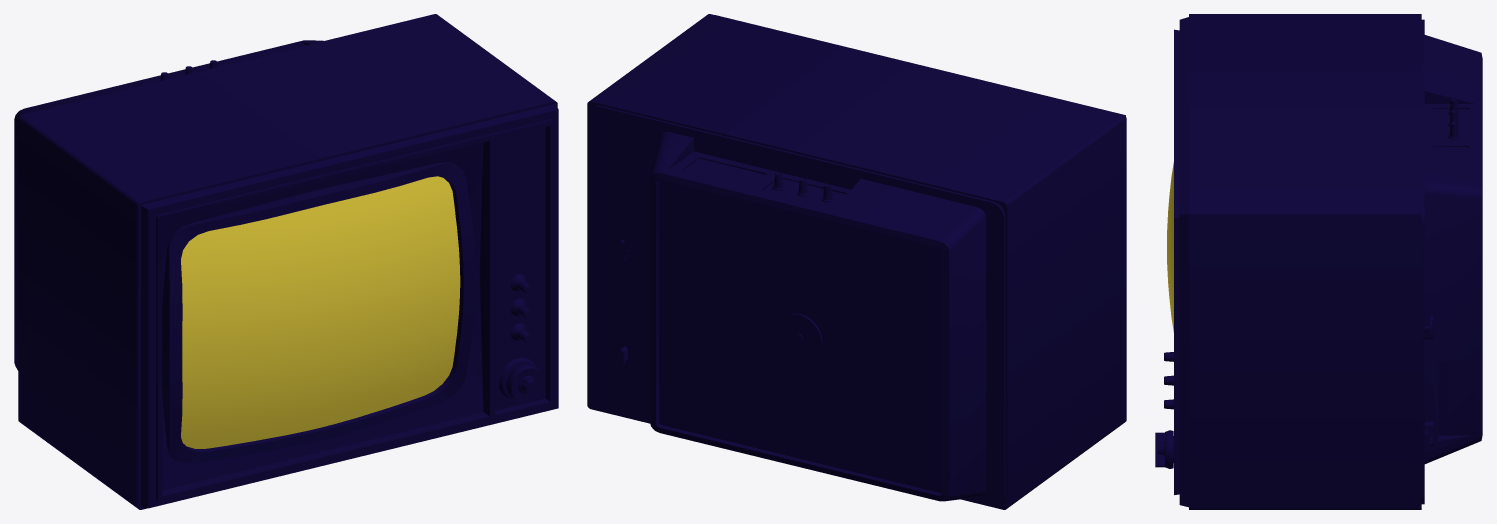
File: TvPrepared.fbx
3 views of the same model, side by side, from view 1: azimuth 30°, elevation 25°; view 2: azimuth 150°, elevation 25°; view 3: azimuth 270°, elevation 25° (orthographic). The views are drawn at different scales.
Visible parts, largest first — view 1: soviettv_low, EkranProzra4n; view 2: soviettv_low; view 3: soviettv_low, EkranProzra4n.
Part boxes in pixels (bbox=[...]): soviettv_low: bbox=[14, 14, 558, 509]; EkranProzra4n: bbox=[181, 176, 460, 448]; soviettv_low: bbox=[587, 14, 1126, 509]; soviettv_low: bbox=[1155, 14, 1482, 509]; EkranProzra4n: bbox=[1167, 162, 1173, 332].
Bounding box in the file's own units: 615 × 431 × 427.
